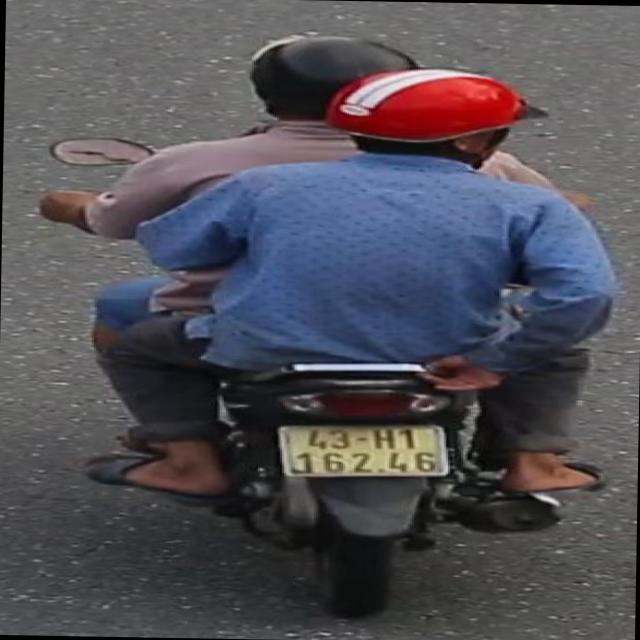LP: (270, 414, 456, 482)
helmet: (324, 66, 550, 179), (242, 30, 426, 128)
